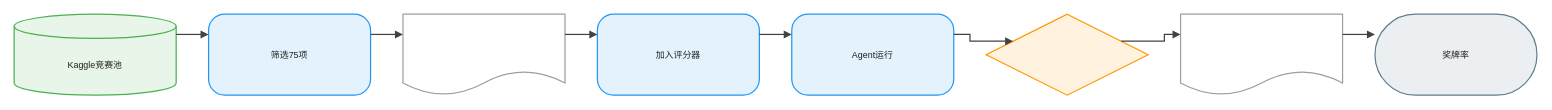
Image size: 1552x110. Some labels were removed from this diagram. The shapes that lost their labels are listed below. From the top down, each one's box as (x1, y1, x2, y2) in pixels, then its label:
(402, 13, 565, 95): 重建划分
(985, 13, 1148, 95): 规则检查
(1180, 13, 1343, 95): 榜单基线
